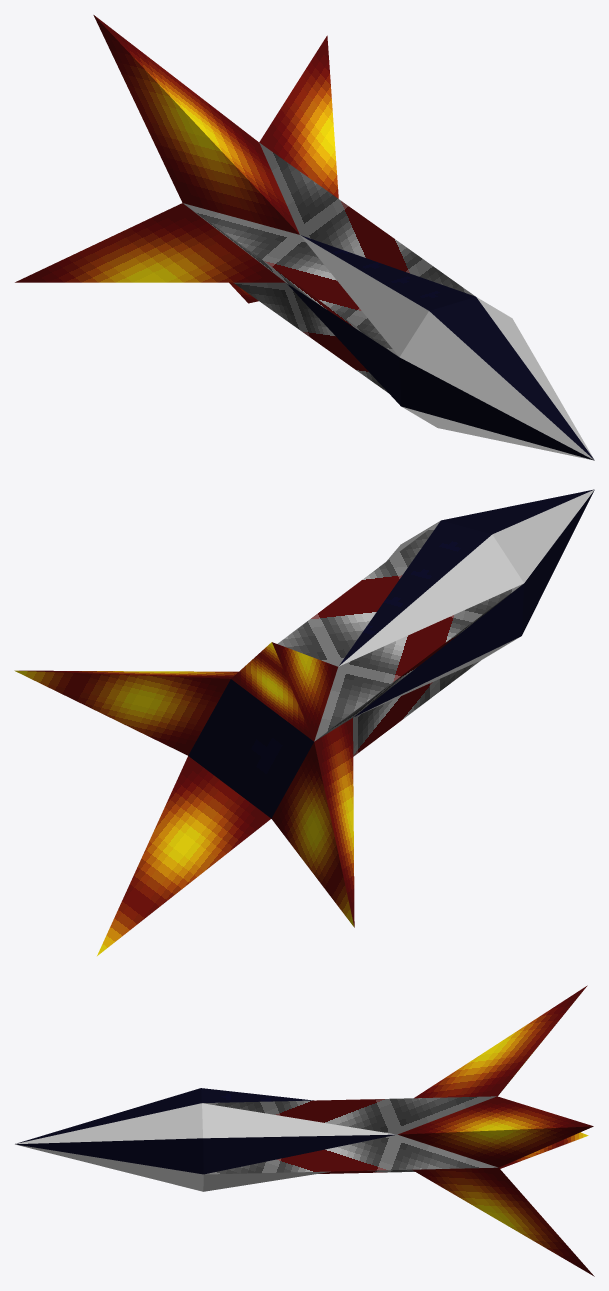
Rendered from missile.dae.
3 views of the same model, one above another, from view 1: azimuth 30°, elevation 25°; view 2: azimuth 150°, elevation 25°; view 3: azimuth 270°, elevation 25° (orthographic). The views are drawn at different scales.
Visible parts, largest first — view 1: mfin, mbody, mblack, mwhite; view 2: mfin, mblack, mbody, mwhite; view 3: mfin, mbody, mwhite, mblack.
Boxes of the visible parts, x1=… form: mfin: x1=15, y1=15, x2=338, y2=303; mbody: x1=183, y1=143, x2=475, y2=392; mblack: x1=286, y1=235, x2=594, y2=460; mwhite: x1=300, y1=235, x2=594, y2=460; mfin: x1=14, y1=642, x2=354, y2=955; mblack: x1=188, y1=489, x2=594, y2=818; mbody: x1=277, y1=521, x2=523, y2=756; mwhite: x1=339, y1=489, x2=594, y2=715; mfin: x1=398, y1=985, x2=594, y2=1276; mbody: x1=202, y1=1096, x2=497, y2=1174; mwhite: x1=14, y1=1103, x2=395, y2=1191; mblack: x1=15, y1=1088, x2=395, y2=1174.
Size of the model in its own units: 80.31 by 80.32 by 179.
4 materials, 4 textured.
